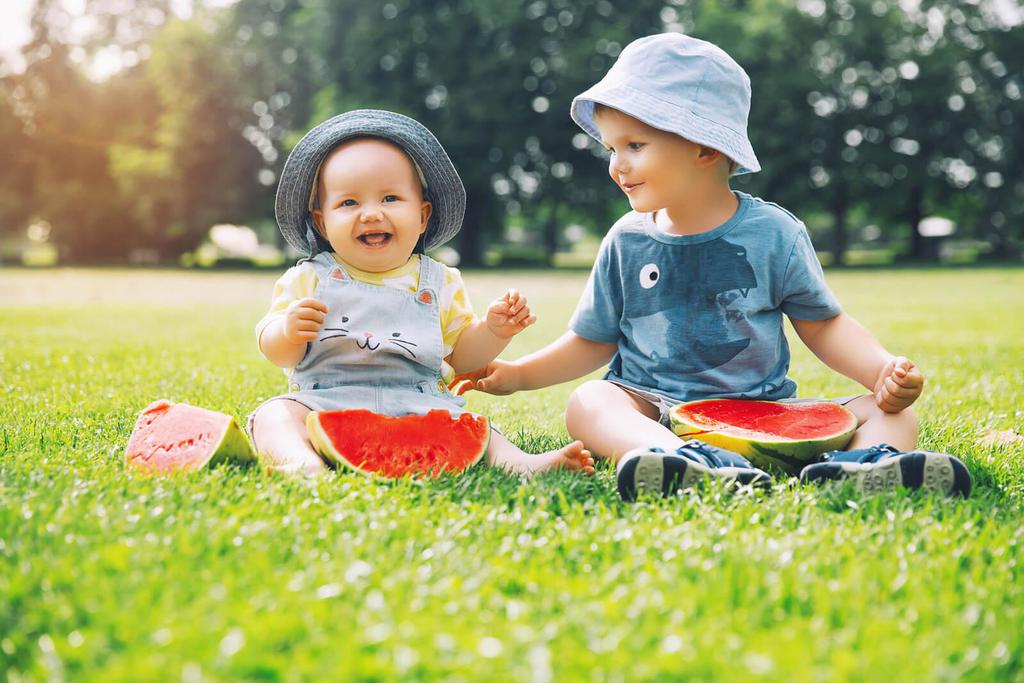child: (441, 31, 989, 511), (226, 99, 598, 503)
